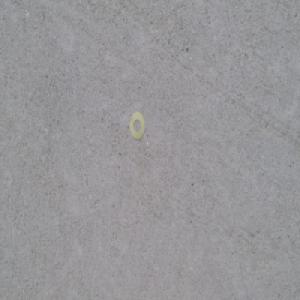Washer: (129, 111, 145, 140)
